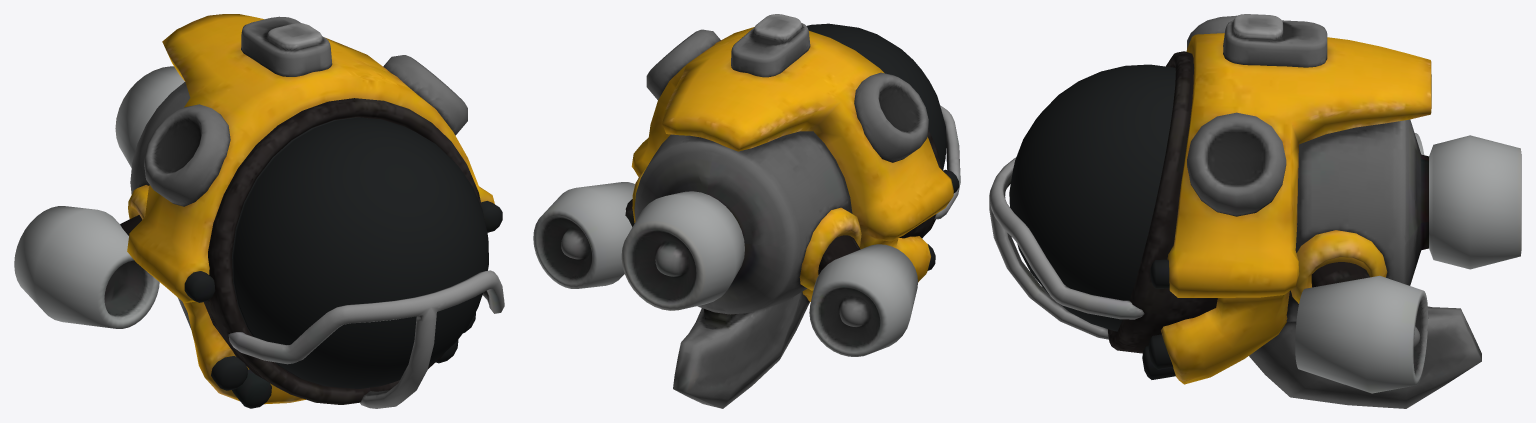
File: research-sub.glb
3 renders of one model, left to right at view 1: azimuth 30°, elevation 25°; view 2: azimuth 150°, elevation 25°; view 3: azimuth 270°, elevation 25°, orthographic. The views are drawn at different scales.
Parts seen in each view (by area): view 1: Object_2; view 2: Object_2; view 3: Object_2.
Boxes of the visible parts, x1,y1,x2,y2 form: Object_2: (14,14,504,408); Object_2: (533,14,960,408); Object_2: (989,14,1521,408).
Size of the model in its own units: 195 by 173 by 219.
1 material, 1 textured.
